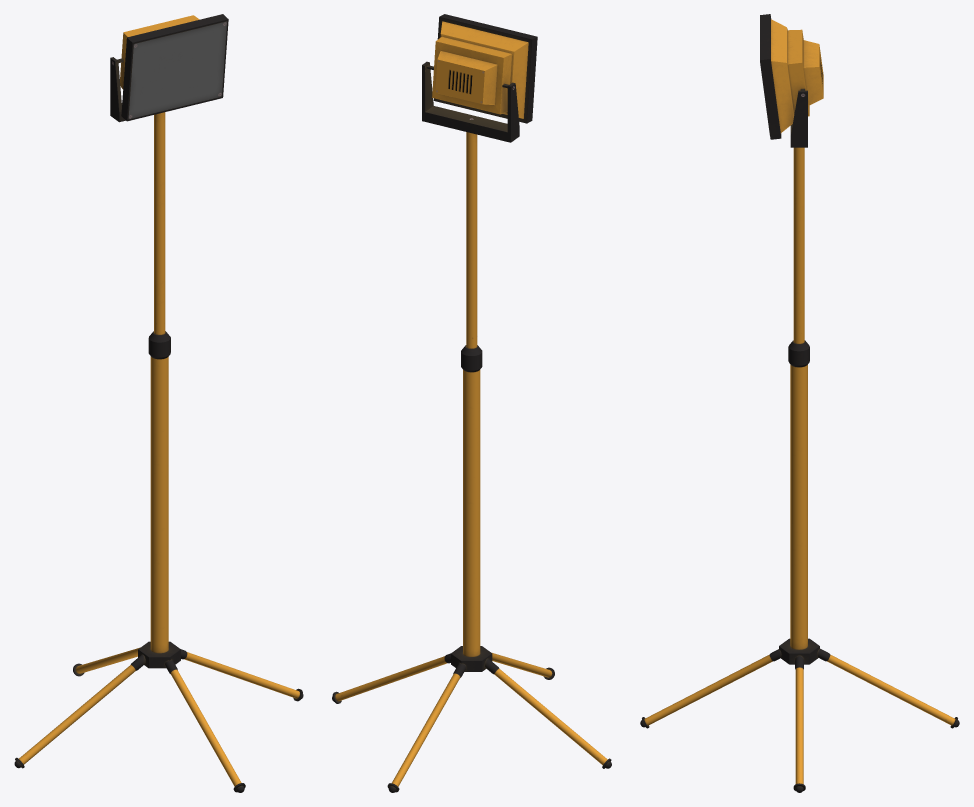
Rendered from Treppiedi_2.glb.
3 views of the same model, side by side, from view 1: azimuth 30°, elevation 25°; view 2: azimuth 150°, elevation 25°; view 3: azimuth 270°, elevation 25° (orthographic). The views are drawn at different scales.
Visible parts, largest first — view 1: Trippiedi; view 2: Trippiedi; view 3: Trippiedi.
Boxes of the visible parts, bbox=[...] form: Trippiedi: bbox=[14, 14, 303, 792]; Trippiedi: bbox=[332, 14, 611, 792]; Trippiedi: bbox=[640, 14, 959, 792].
Size of the model in its own units: 0.6092 by 1.45 by 0.6092.
Materials: 1 (1 with a texture image).
